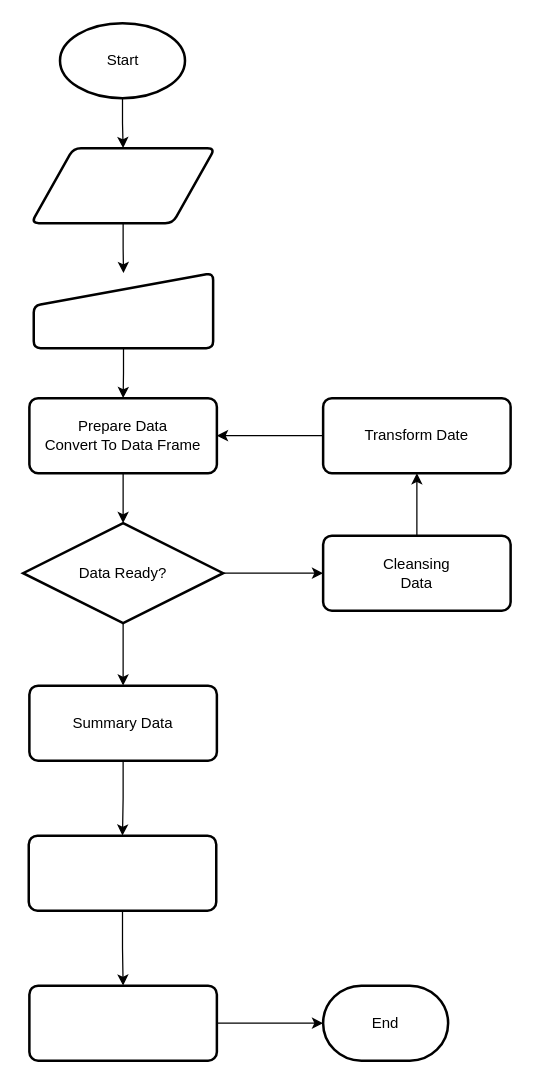
The diagram is 533 pixels wide and 1083 high, and some of its shapes have lost their labels. The shapes that lost their labels are listed below. From the top down, each one's box as (x1, y1, x2, y2) in pixels, then its label:
(29, 146, 216, 224): Get API EXAT_Accident
(32, 271, 214, 349): Select Parameter
(27, 834, 217, 911): Create Chart & Design Dashboard
(28, 984, 218, 1061): Deploy Streamlit
